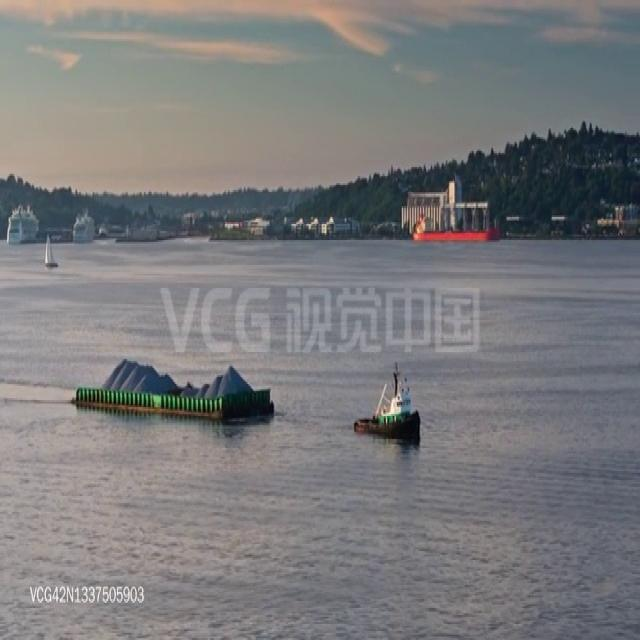cargoship: (72, 346, 273, 426), (412, 208, 501, 245)
houseboat: (349, 364, 427, 444)
sailboat: (42, 236, 60, 268)
